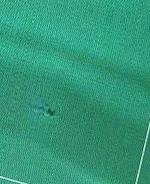knot: (39, 103, 61, 121)
